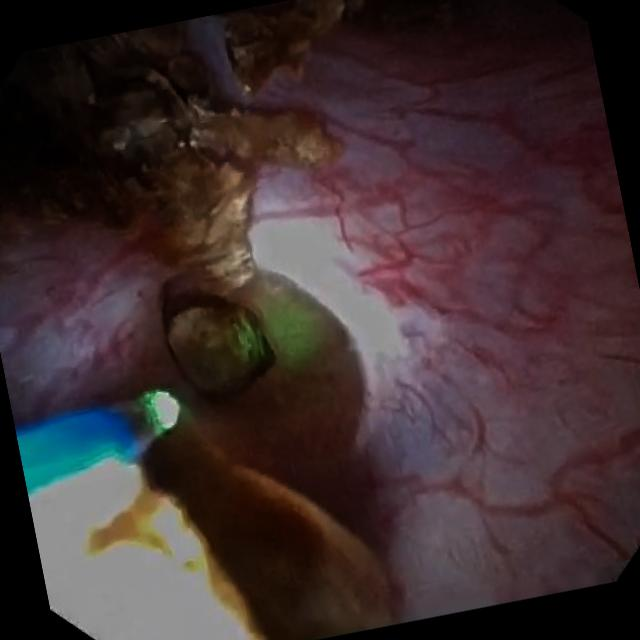laser-fibre: (120, 394, 180, 449)
laser_dot: (260, 293, 322, 368)
stone-new: (0, 21, 340, 295), (30, 421, 393, 640), (166, 298, 275, 394), (230, 0, 343, 88)
